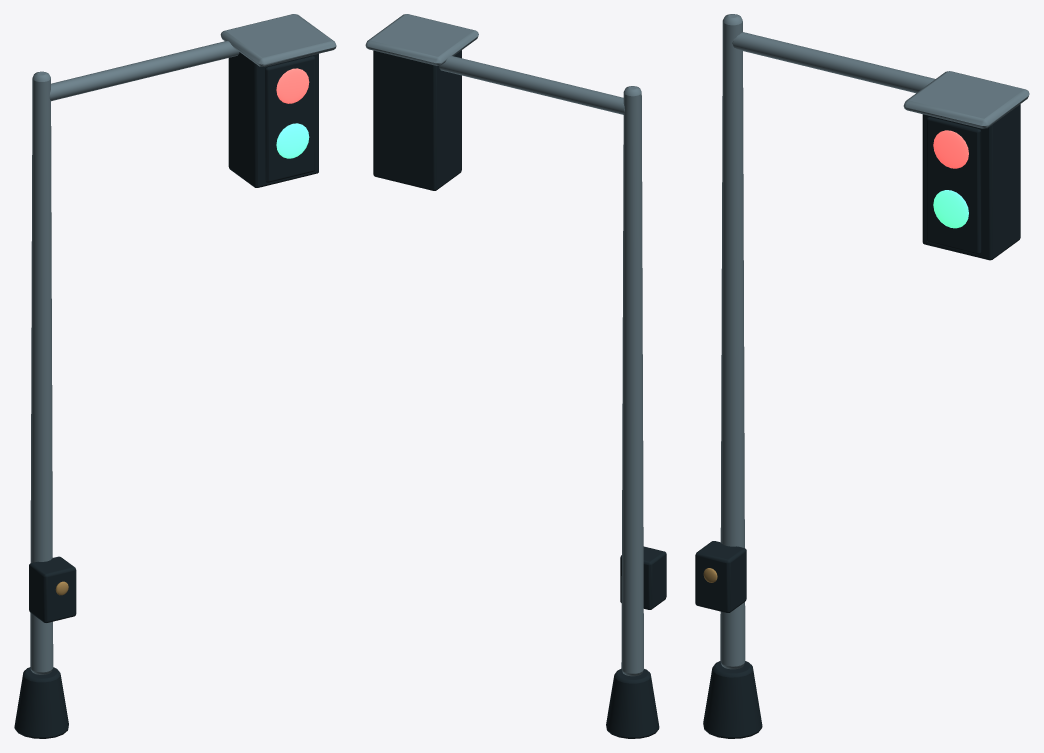
File: signal_mast.glb
The picture shows the model from 3 angles, left to right: view 1: azimuth 30°, elevation 25°; view 2: azimuth 150°, elevation 25°; view 3: azimuth 330°, elevation 25°; orthographic projection. The views are drawn at different scales.
Parts seen in each view (by area): view 1: Detail.signal_mast.Metal, Detail.signal_mast.Dark, Detail.signal_mast.SignalStop, Detail.signal_mast.SignalGo; view 2: Detail.signal_mast.Metal, Detail.signal_mast.Dark; view 3: Detail.signal_mast.Metal, Detail.signal_mast.Dark, Detail.signal_mast.SignalStop, Detail.signal_mast.SignalGo.
Part boxes in pixels (x1=…): Detail.signal_mast.Metal: x1=30, y1=14, x2=336, y2=674; Detail.signal_mast.Dark: x1=14, y1=52, x2=318, y2=738; Detail.signal_mast.SignalStop: x1=276, y1=68, x2=309, y2=103; Detail.signal_mast.SignalGo: x1=276, y1=123, x2=309, y2=158; Detail.signal_mast.Metal: x1=365, y1=14, x2=643, y2=676; Detail.signal_mast.Dark: x1=373, y1=50, x2=666, y2=738; Detail.signal_mast.Metal: x1=720, y1=14, x2=1029, y2=669; Detail.signal_mast.Dark: x1=695, y1=104, x2=1020, y2=738; Detail.signal_mast.SignalStop: x1=933, y1=130, x2=968, y2=168; Detail.signal_mast.SignalGo: x1=933, y1=190, x2=968, y2=228.
Bounding box in the file's own units: 2.15 × 4.65 × 0.5874.
